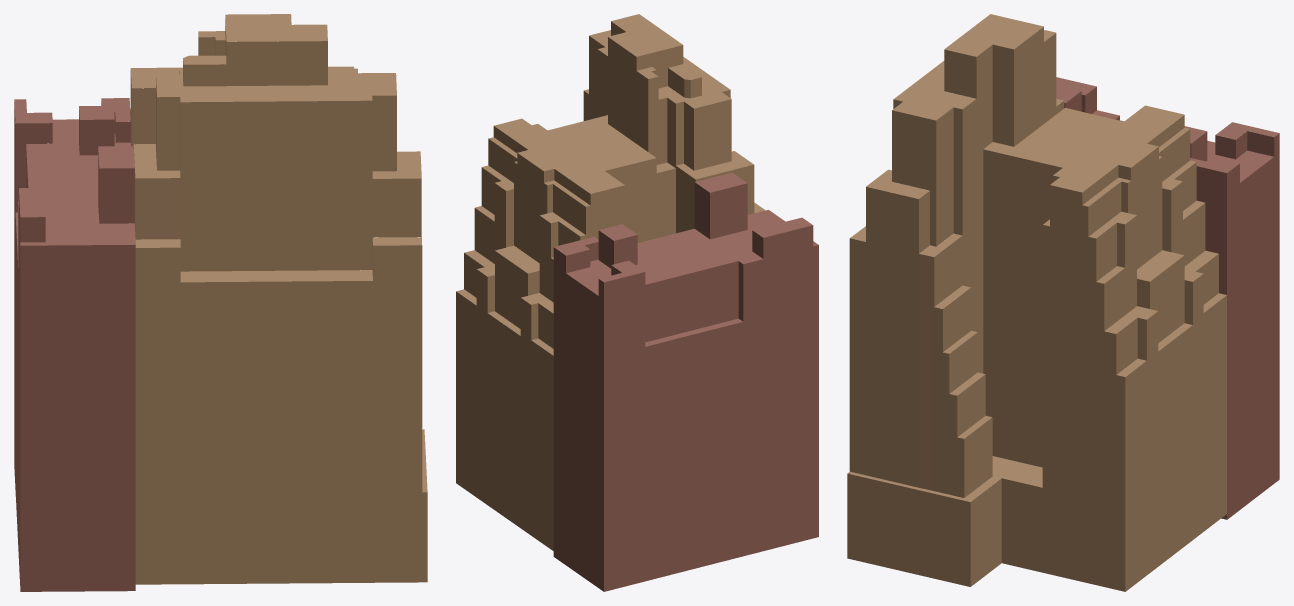
Rendered from tile-6_-14.glb.
3 renders of one model, left to right at view 1: azimuth 30°, elevation 25°; view 2: azimuth 150°, elevation 25°; view 3: azimuth 270°, elevation 25°, orthographic. The views are drawn at different scales.
Parts seen in each view (by area): view 1: wall, roof; view 2: wall, roof; view 3: wall, roof.
Part boxes in pixels (x1,y1,x2,y2): wall: (14, 18, 427, 591); roof: (14, 14, 427, 492); wall: (456, 21, 818, 591); roof: (456, 14, 818, 355); wall: (847, 27, 1279, 591); roof: (847, 14, 1279, 501).
Size of the model in its own units: 88.89 by 116 by 92.44.
